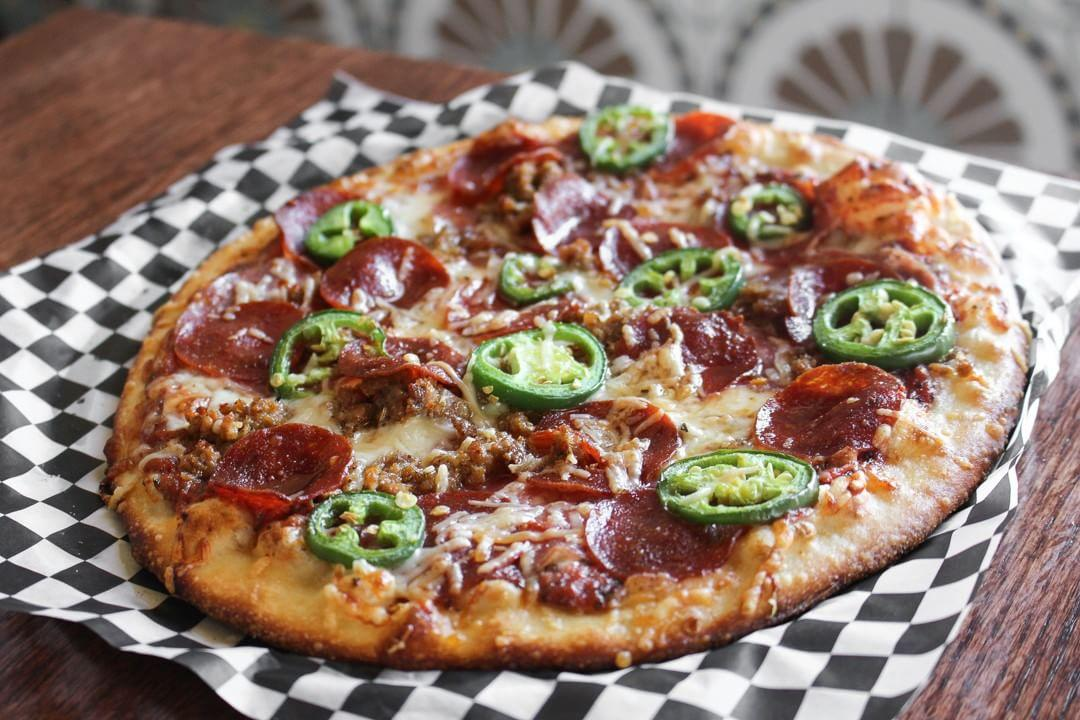Pepperoni: (176, 270, 301, 385), (778, 358, 900, 461), (585, 494, 720, 585), (751, 233, 878, 325), (216, 426, 353, 507), (456, 120, 566, 201), (513, 415, 618, 499), (333, 236, 441, 313), (333, 341, 439, 413), (516, 160, 606, 243), (646, 98, 734, 181), (660, 306, 752, 377)
Peppers: (476, 318, 608, 409), (293, 480, 427, 563), (816, 286, 942, 363), (260, 306, 379, 383), (623, 251, 748, 319), (645, 458, 796, 513), (730, 168, 806, 243), (286, 204, 379, 265), (494, 237, 575, 306), (583, 108, 676, 161)
Pizza: (110, 101, 1024, 653)
